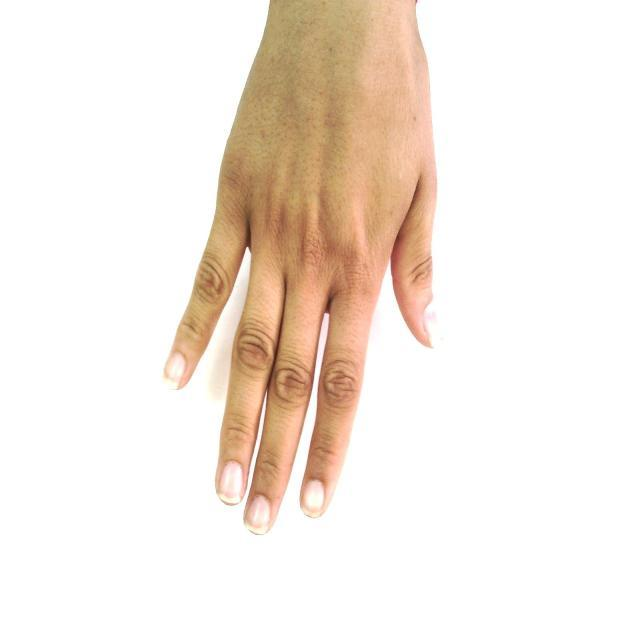Fingernail: (219, 462, 243, 504), (247, 496, 270, 532), (303, 481, 324, 517), (424, 303, 439, 347), (165, 353, 184, 382)
